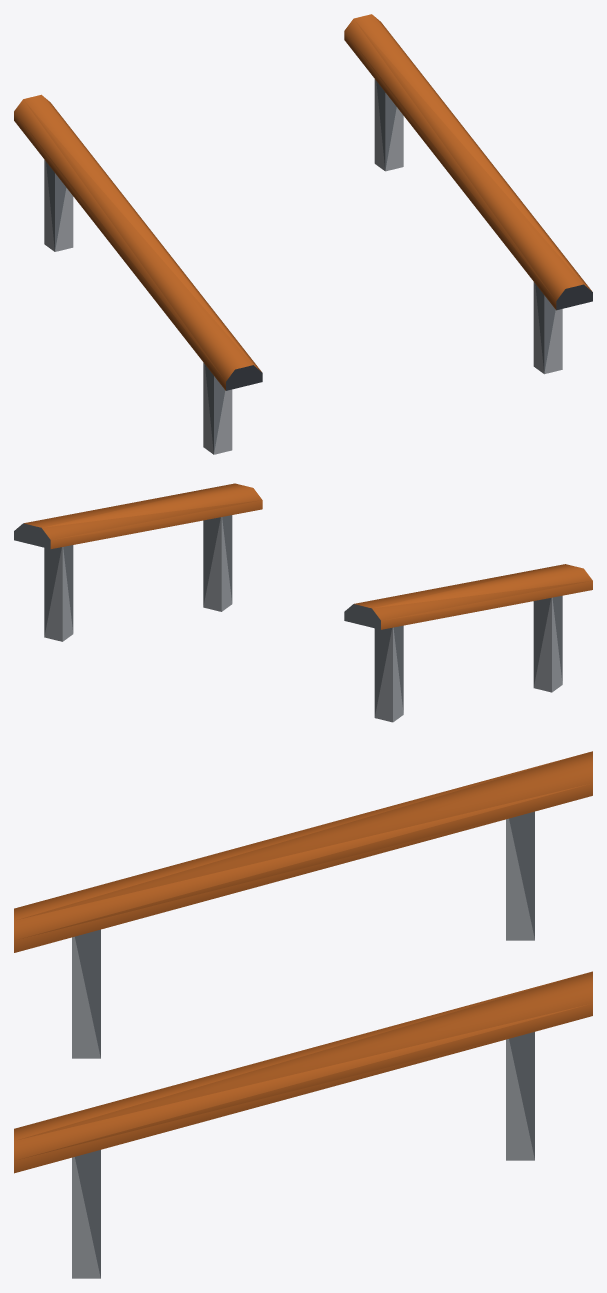
File: Kit_stairs-handrail.fbx
The picture shows the model from 3 angles, top to bottom: view 1: azimuth 30°, elevation 25°; view 2: azimuth 150°, elevation 25°; view 3: azimuth 270°, elevation 25°; orthographic projection. The views are drawn at different scales.
Parts seen in each view (by area): view 1: Kit_stairs-handrail; view 2: Kit_stairs-handrail; view 3: Kit_stairs-handrail.
Boxes of the visible parts, x1,y1,x2,y2 form: Kit_stairs-handrail: [14, 14, 592, 454]; Kit_stairs-handrail: [14, 483, 592, 722]; Kit_stairs-handrail: [14, 751, 592, 1278].
Size of the model in its own units: 1 by 0.5625 by 1.
